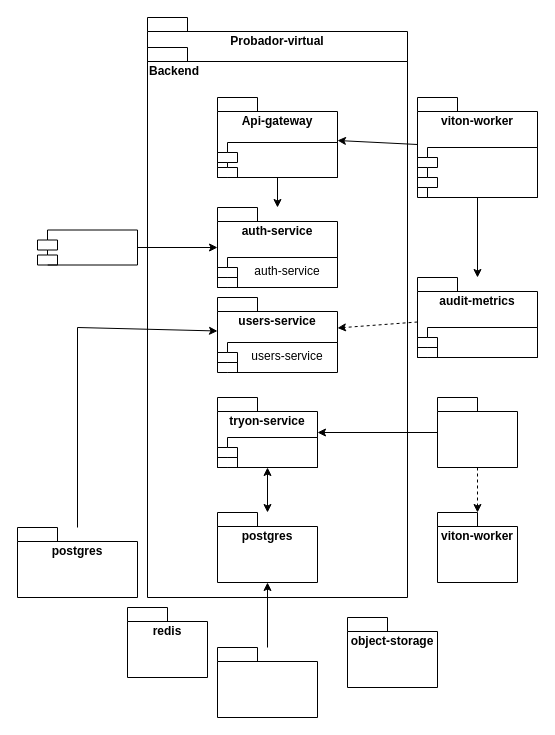
This 555x735 diagram has some shape labels left out. Each missing label, with the centre of its shape:
"logs" belongs at [477,342].
"media-service" belongs at [267,452].
"Nginx,CORS Rate-limit TLS" belongs at [277,160].
"preprocessing postprocess" belongs at [477,172].
"queue" belongs at [477,432].
"scheduler" belongs at [267,682].
"UI" belongs at [87,247].
